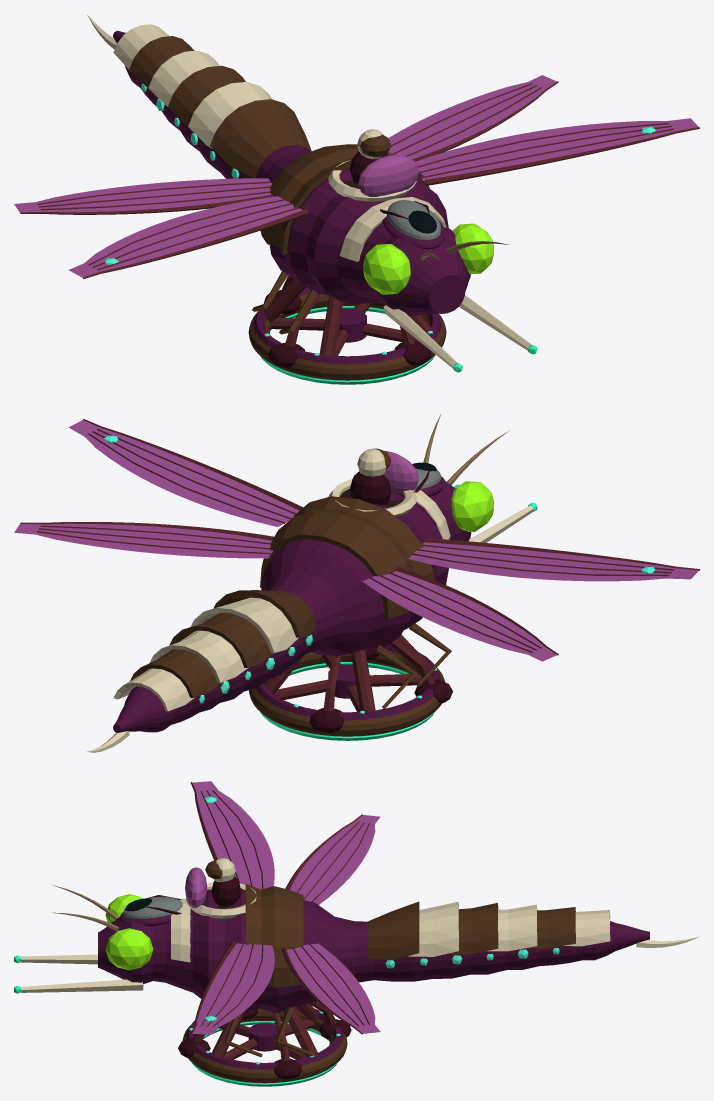
File: fighter.obj
3 renders of one model, top to bottom at view 1: azimuth 30°, elevation 25°; view 2: azimuth 150°, elevation 25°; view 3: azimuth 270°, elevation 25°, orthographic. The views are drawn at different scales.
Parts seen in each view (by area): view 1: fighter; view 2: fighter; view 3: fighter.
Boxes of the visible parts, x1=… form: fighter: x1=14, y1=14, x2=699, y2=384; fighter: x1=14, y1=414, x2=699, y2=752; fighter: x1=14, y1=781, x2=699, y2=1086.
Size of the model in its own units: 39.37 by 14.15 by 45.
1 material, 1 textured.
